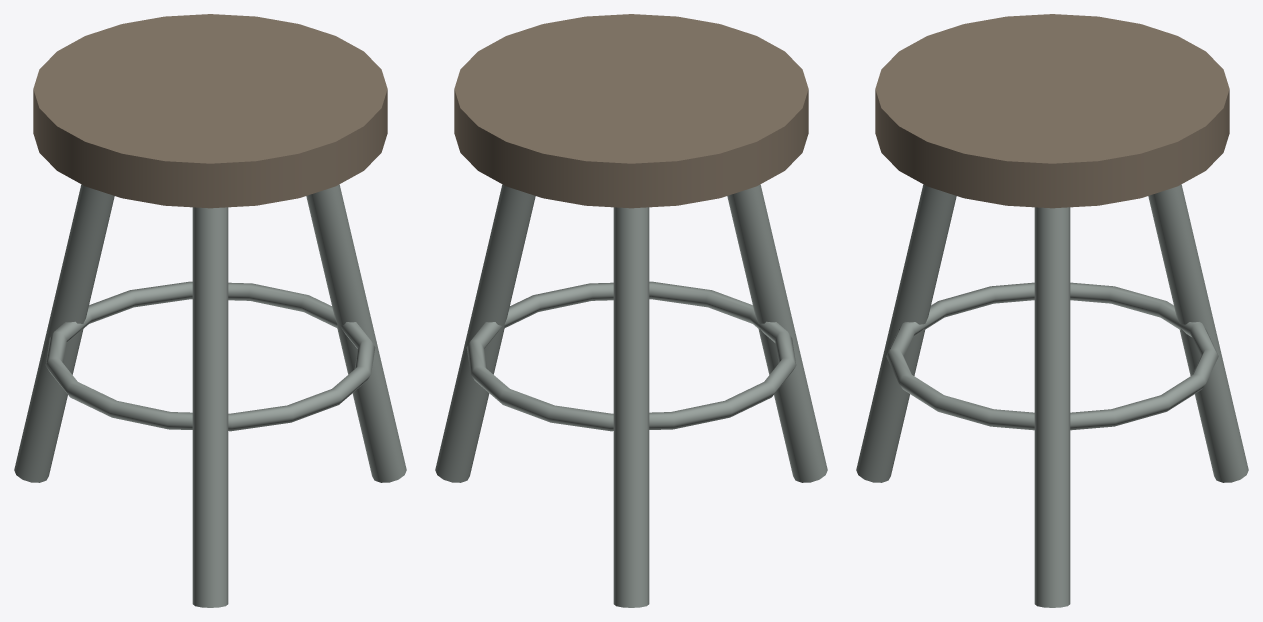
Rendered from art_stool.glb.
3 renders of one model, left to right at view 1: azimuth 30°, elevation 25°; view 2: azimuth 150°, elevation 25°; view 3: azimuth 270°, elevation 25°, orthographic.
Visible parts, largest first — view 1: KitWood, KitSteel; view 2: KitWood, KitSteel; view 3: KitWood, KitSteel.
Part boxes in pixels (x1,y1,x2,y2): KitWood: (33,14,387,208); KitSteel: (14,184,406,607); KitWood: (454,14,808,208); KitSteel: (435,184,827,607); KitWood: (875,14,1229,208); KitSteel: (856,184,1248,607).
Size of the model in its own units: 0.4075 by 0.4841 by 0.399.
